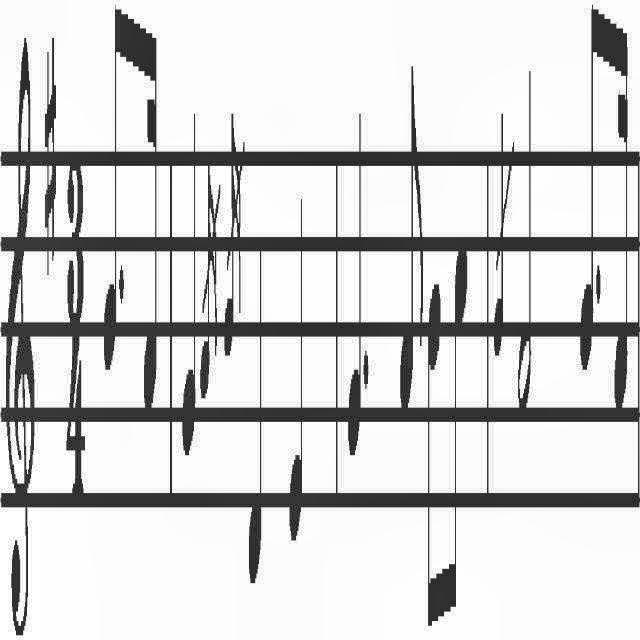Bass-clef: (2, 0, 36, 640)
Diez: (42, 16, 60, 320)
Eighth-note: (397, 58, 425, 476), (575, 0, 597, 416), (448, 192, 468, 640), (100, 0, 118, 392), (426, 236, 442, 640)
Half-note: (516, 64, 536, 460)
Quarter-note: (286, 180, 310, 584), (178, 71, 198, 519), (246, 223, 265, 640), (346, 77, 362, 515)
Sixteenth-note: (140, 0, 160, 450), (610, 0, 630, 436)
